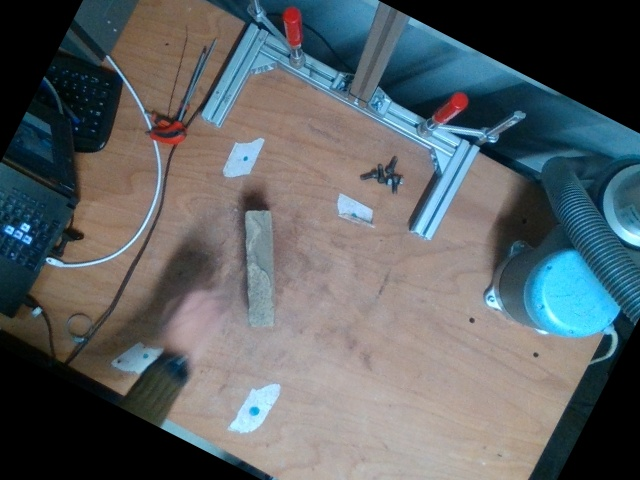brick-side: (246, 212, 272, 324)
